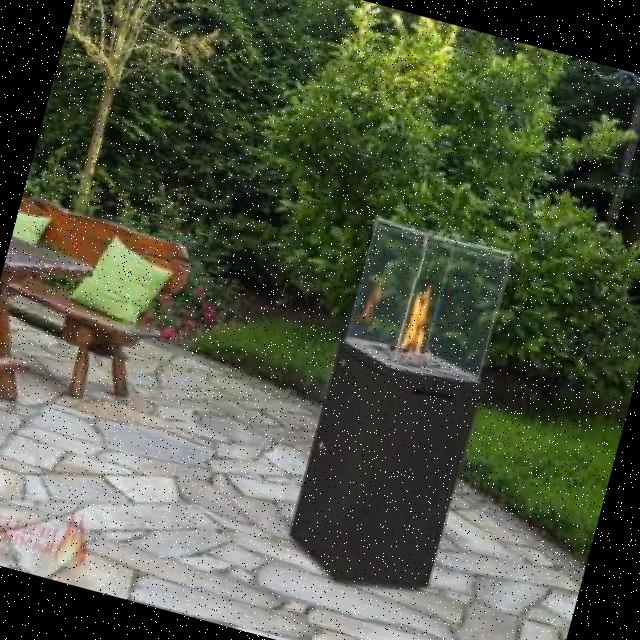fire: (388, 276, 442, 371)
